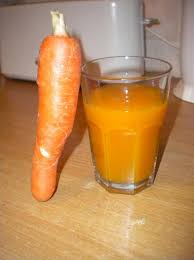carrot: (27, 26, 84, 216)
